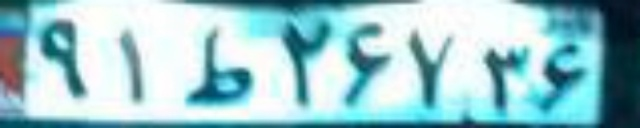1: (114, 28, 145, 101)
2: (277, 15, 331, 106)
3: (484, 42, 531, 112)
6: (339, 20, 391, 106), (539, 41, 590, 113)
7: (405, 25, 456, 106)
9: (35, 17, 87, 99)
taa: (182, 26, 252, 105)
